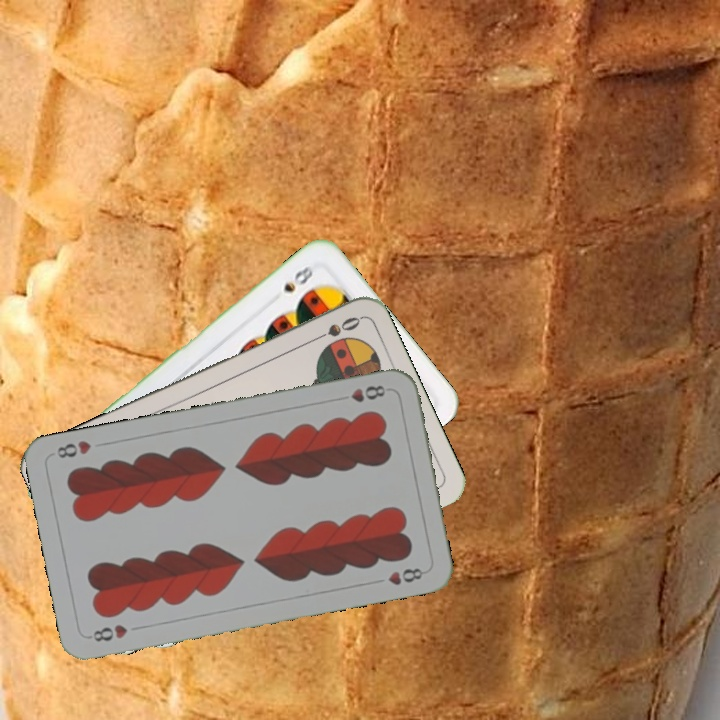H8: (333, 381, 388, 405), (84, 620, 130, 645)
S8: (279, 261, 316, 295)
SO: (307, 312, 364, 345)
